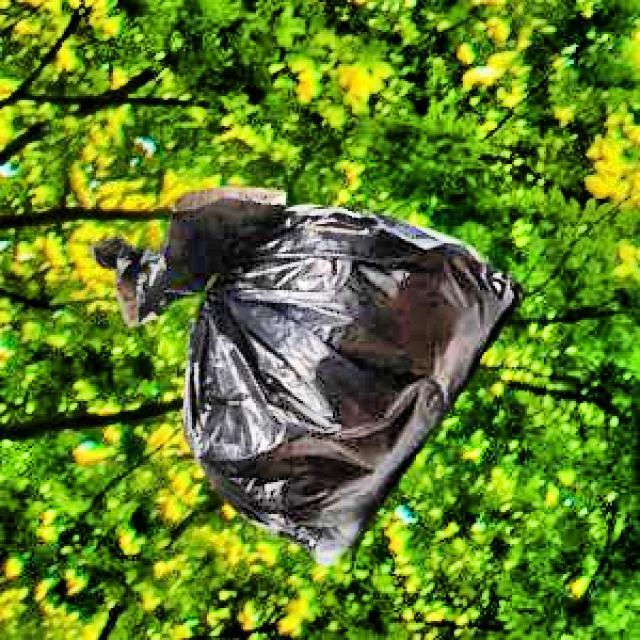Trashbag: (94, 185, 522, 570)
